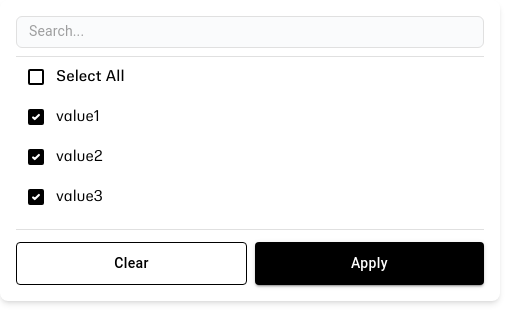
Test: MultiFilter › should filter checkboxes based on search text
Type "value1" into the field with placeholder "Search..." at point(250, 31), box top-left (29, 21), bottom-right (471, 41)
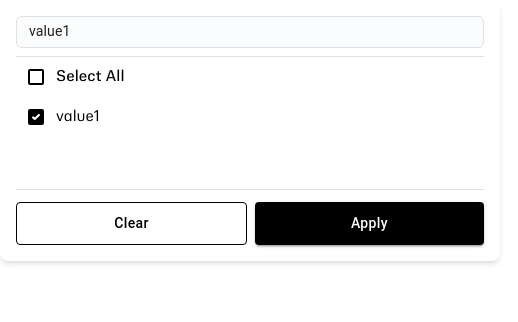
Expected: the text "value1" is shown, top-left (56, 110), bottom-right (100, 124)
Result: the button "value2" is gone
